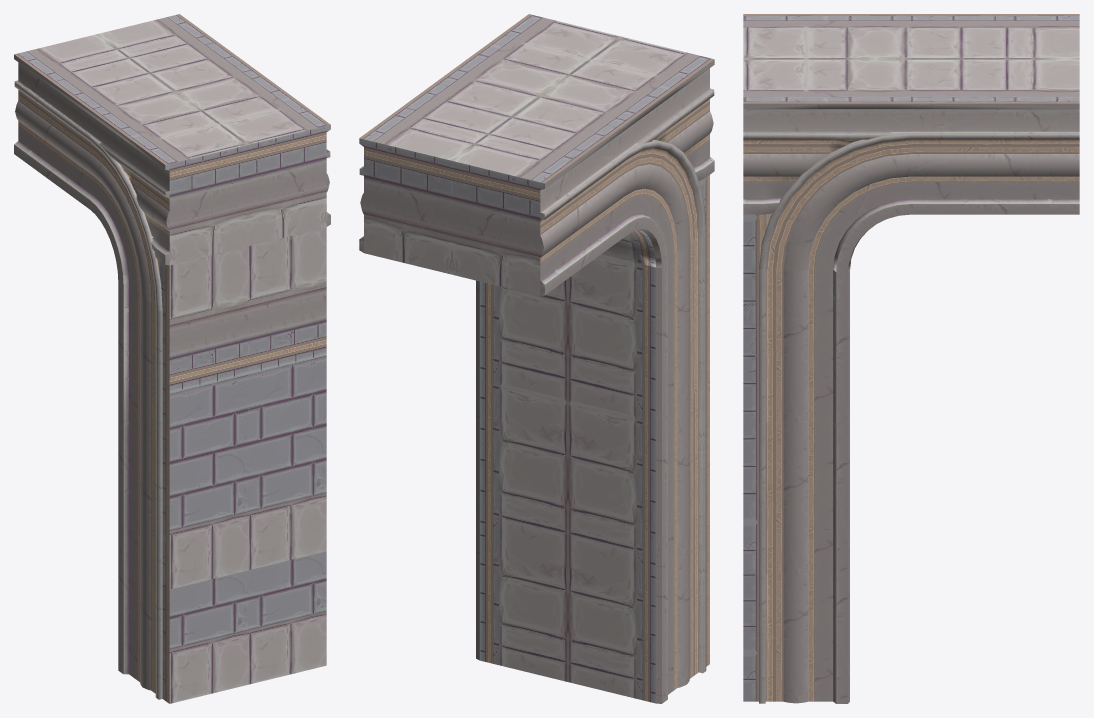
Rendered from EN_P_L1BridgePillar_01_19G4_01_19.fbx.
The picture shows the model from 3 angles, left to right: view 1: azimuth 30°, elevation 25°; view 2: azimuth 150°, elevation 25°; view 3: azimuth 270°, elevation 25°; orthographic projection. The views are drawn at different scales.
Visible parts, largest first — view 1: EN_P_L1BridgePillar_01_19G4_01_20; view 2: EN_P_L1BridgePillar_01_19G4_01_20; view 3: EN_P_L1BridgePillar_01_19G4_01_20.
Boxes of the visible parts, bbox=[...] form: EN_P_L1BridgePillar_01_19G4_01_20: bbox=[14, 14, 330, 703]; EN_P_L1BridgePillar_01_19G4_01_20: bbox=[359, 14, 714, 703]; EN_P_L1BridgePillar_01_19G4_01_20: bbox=[743, 14, 1079, 703].
Bounding box in the file's own units: 12.64 × 39.4 × 20.
Materials: 1 (1 with a texture image).
